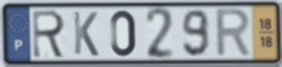0: (109, 9, 137, 59)
2: (143, 4, 176, 64)
9: (181, 8, 212, 59)
K: (71, 10, 100, 58)
R: (214, 7, 254, 60), (31, 8, 67, 60)
